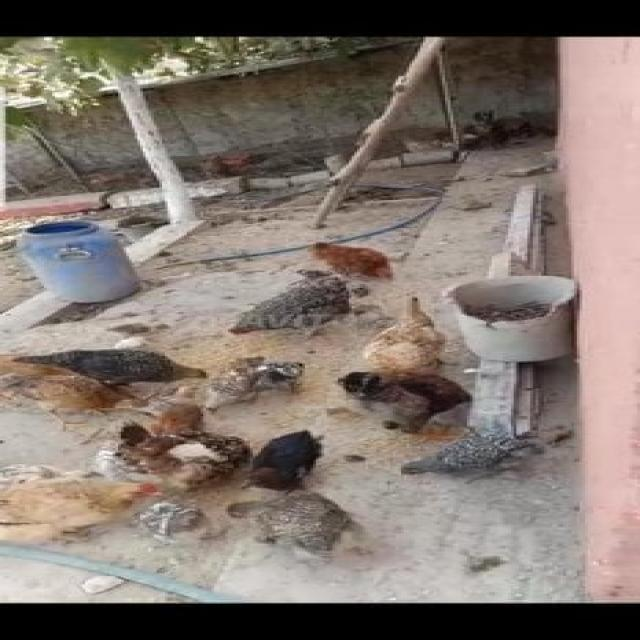chicken: (117, 413, 280, 506), (4, 472, 166, 548), (5, 351, 134, 432), (369, 304, 505, 378), (396, 432, 566, 486), (47, 328, 192, 386), (339, 366, 481, 424), (226, 277, 366, 335), (193, 357, 321, 413), (258, 431, 368, 495), (284, 232, 416, 285)
